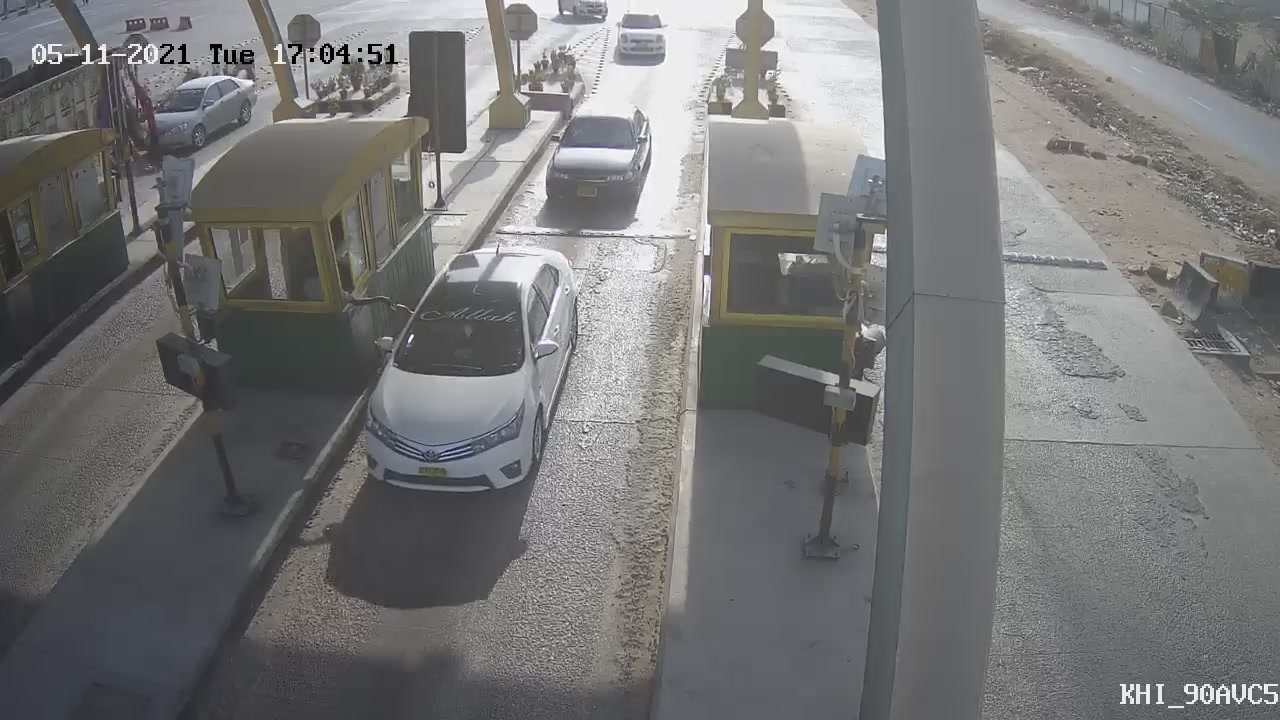F1: (336, 224, 599, 512), (529, 85, 667, 222)
